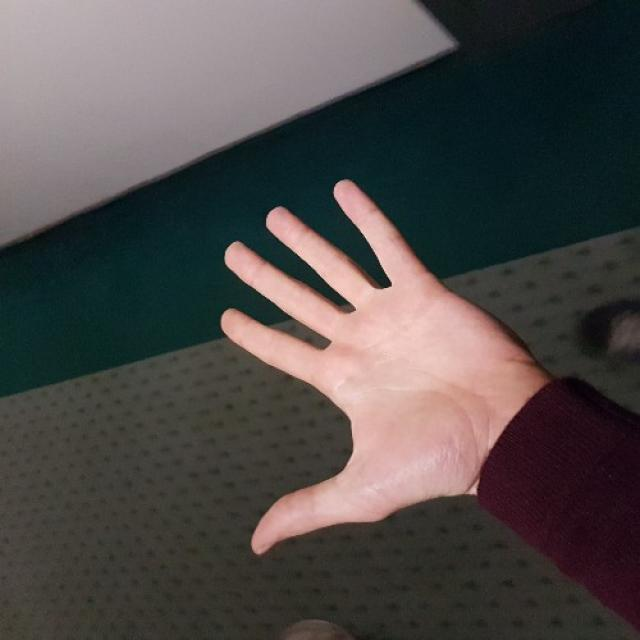paper: (221, 181, 487, 557)
